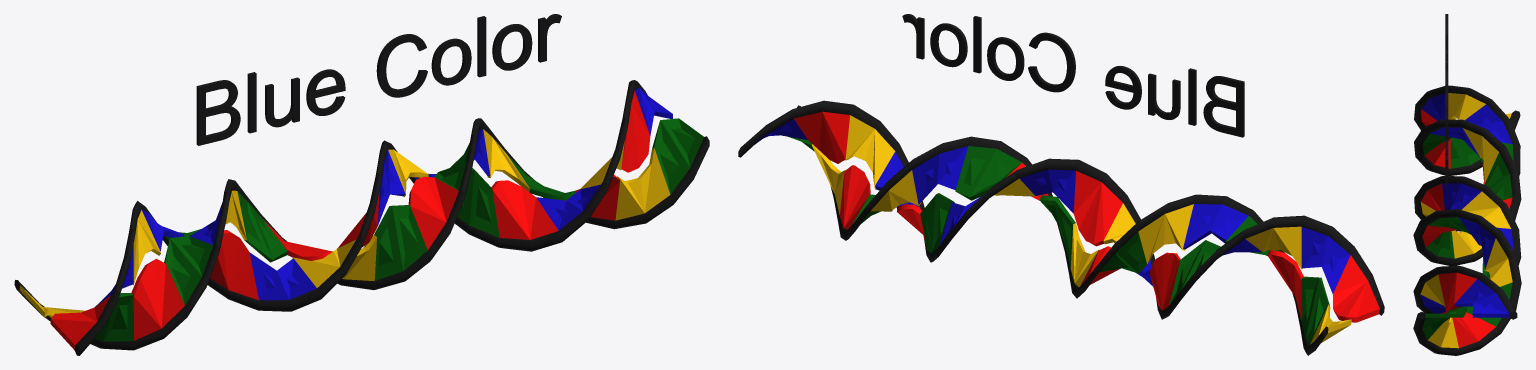
The model's file is Gene_Blue.FBX.
3 views of the same model, side by side, from view 1: azimuth 30°, elevation 25°; view 2: azimuth 150°, elevation 25°; view 3: azimuth 270°, elevation 25° (orthographic). The views are drawn at different scales.
Parts seen in each view (by area): view 1: Group003, Text003; view 2: Group003, Text003; view 3: Group003, Text003.
Part boxes in pixels (x1,y1,x2,y2): Group003: (14, 80, 709, 355); Text003: (196, 14, 561, 145); Group003: (738, 100, 1384, 355); Text003: (902, 14, 1244, 137); Group003: (1413, 85, 1521, 355); Text003: (1445, 14, 1448, 184).
Bounding box in the file's own units: 180 × 36.03 × 69.72.
